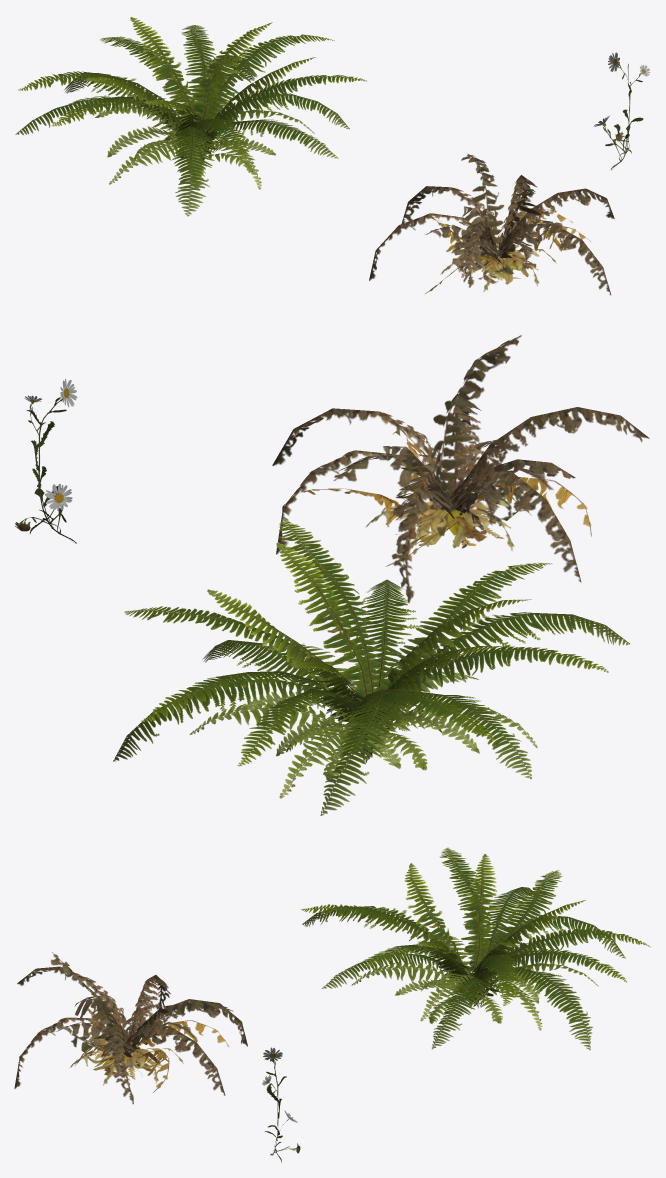
The model's file is plants.glb.
3 views of the same model, one above another, from view 1: azimuth 30°, elevation 25°; view 2: azimuth 150°, elevation 25°; view 3: azimuth 270°, elevation 25° (orthographic). The views are drawn at different scales.
Visible parts, largest first — view 1: Plane010_Material #47_0, Plane013_Material #47_0, Plane028_Material #47_0, Plane007_Material #47_0, Plane018_Material #47_0, Plane014_Material #47_0, Plane049_Material #47_0, Plane011_Material #47_0, Plane012_Material #47_0, Plane048_Material #47_0, Plane044_Material #47_0, Plane016_Material #47_0 (+19 smaller); view 2: Plane014_Material #47_0, Plane002_Material #47_0, Plane027_Material #47_0, Plane010_Material #47_0, Plane015_Material #47_0, Plane065_Material #47_0, Plane050_Material #47_0, Plane011_Material #47_0, Plane008_Material #47_0, Plane016_Material #47_0, Plane051_Material #47_0, Plane003_Material #47_0 (+24 smaller); view 3: Plane008_Material #47_0, Plane025_Material #47_0, Plane017_Material #47_0, Plane016_Material #47_0, Plane026_Material #47_0, Plane009_Material #47_0, Plane003_Material #47_0, Plane018_Material #47_0, Plane047_Material #47_0, Plane010_Material #47_0, Plane011_Material #47_0, Plane013_Material #47_0 (+19 smaller).
Part boxes in pixels (x1,y1,x2,y2): Plane010_Material #47_0: (163, 126, 220, 216); Plane013_Material #47_0: (197, 34, 334, 129); Plane028_Material #47_0: (192, 22, 272, 132); Plane007_Material #47_0: (130, 17, 196, 129); Plane018_Material #47_0: (181, 25, 216, 154); Plane014_Material #47_0: (199, 74, 366, 151); Plane049_Material #47_0: (499, 223, 611, 295); Plane011_Material #47_0: (199, 119, 338, 158); Plane012_Material #47_0: (15, 95, 180, 141); Plane048_Material #47_0: (505, 188, 614, 247); Plane044_Material #47_0: (461, 153, 503, 247); Plane016_Material #47_0: (51, 96, 184, 137); Plane014_Material #47_0: (279, 518, 383, 701); Plane002_Material #47_0: (320, 696, 408, 815); Plane027_Material #47_0: (276, 542, 371, 706); Plane010_Material #47_0: (375, 612, 629, 748); Plane015_Material #47_0: (377, 562, 552, 741); Plane065_Material #47_0: (427, 335, 521, 499); Plane050_Material #47_0: (460, 407, 649, 498); Plane011_Material #47_0: (357, 579, 421, 696); Plane008_Material #47_0: (113, 675, 352, 761); Plane016_Material #47_0: (365, 646, 608, 744); Plane051_Material #47_0: (449, 469, 581, 582); Plane003_Material #47_0: (237, 689, 373, 766); Plane008_Material #47_0: (471, 967, 592, 1050); Plane025_Material #47_0: (461, 854, 500, 995); Plane017_Material #47_0: (470, 870, 562, 1001); Plane016_Material #47_0: (439, 847, 493, 993); Plane026_Material #47_0: (404, 863, 469, 989); Plane009_Material #47_0: (432, 977, 488, 1049); Plane003_Material #47_0: (472, 928, 650, 1001); Plane018_Material #47_0: (471, 948, 626, 996); Plane047_Material #47_0: (124, 1024, 225, 1095); Plane010_Material #47_0: (302, 906, 455, 972); Plane011_Material #47_0: (322, 952, 467, 998); Plane013_Material #47_0: (470, 955, 520, 1005).
Bounding box in the file's own units: 148 × 34.31 × 168.
Materials: 2 (2 with a texture image).
